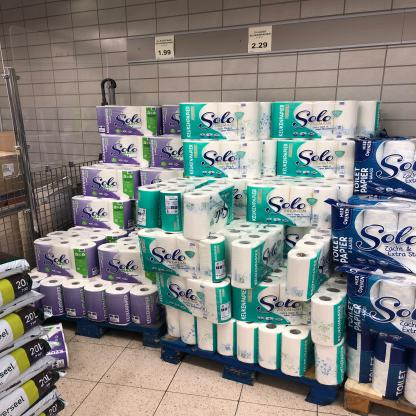prtg: (249, 26, 273, 54), (156, 36, 176, 60)
